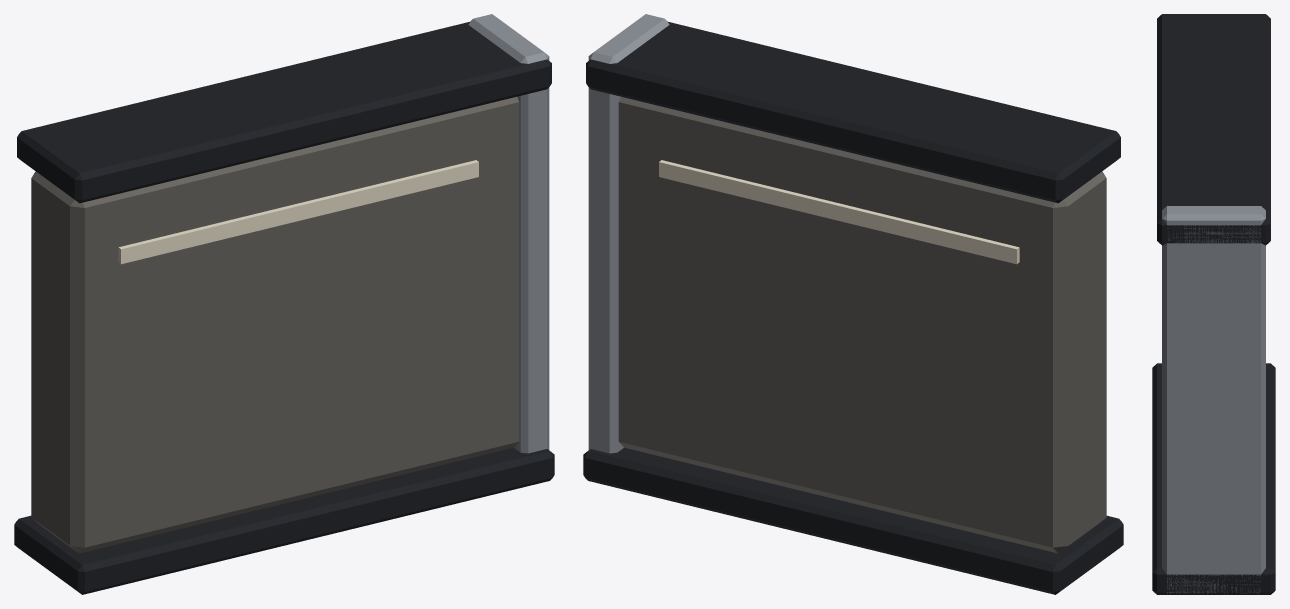
Rendered from wall.glb.
3 renders of one model, left to right at view 1: azimuth 30°, elevation 25°; view 2: azimuth 150°, elevation 25°; view 3: azimuth 270°, elevation 25°, orthographic. The views are drawn at different scales.
Visible parts, largest first — view 1: wall_mesh; view 2: wall_mesh; view 3: wall_mesh.
Part boxes in pixels (x1,y1,x2,y2): wall_mesh: (14,14,554,594); wall_mesh: (583,14,1123,594); wall_mesh: (1152,14,1275,594).
Bounding box in the file's own units: 2 × 1.7 × 0.5.
